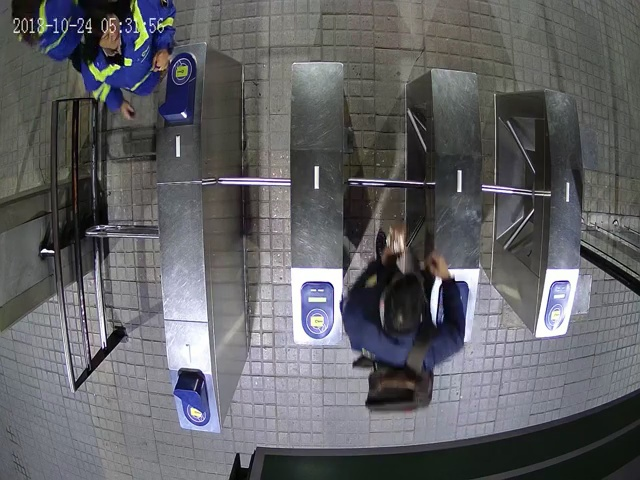Chaleco_azul: (80, 1, 177, 118), (9, 1, 82, 72)
